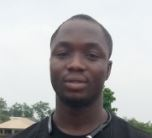without_facemask: (53, 68, 101, 106)
